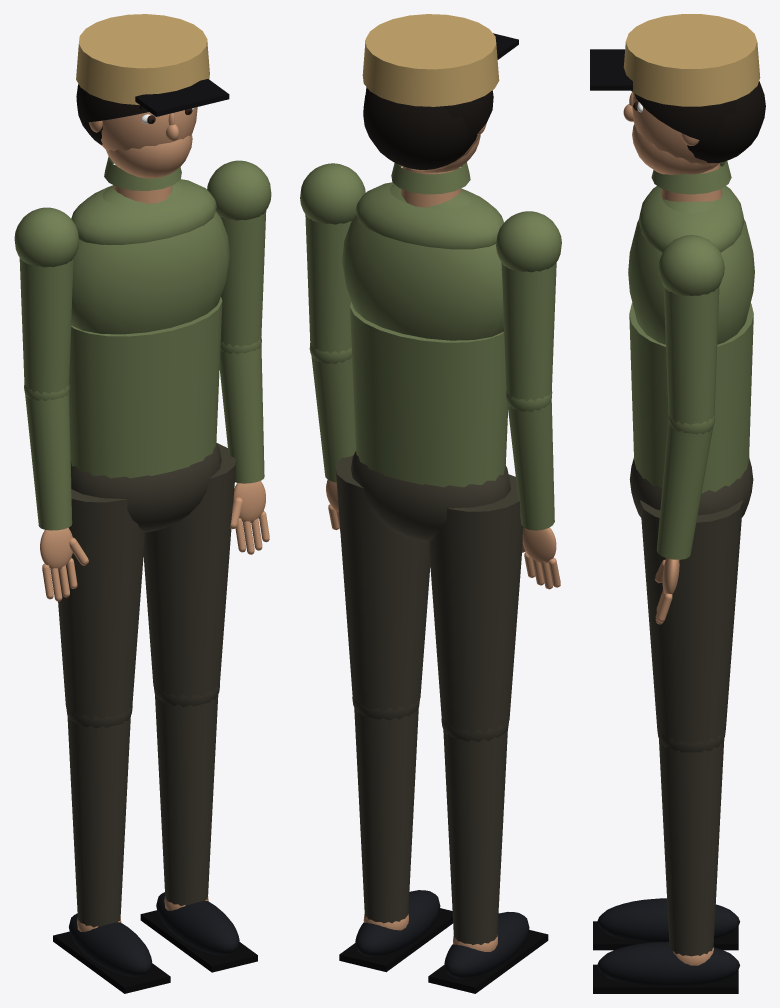
File: villager-farmer.glb
The picture shows the model from 3 angles, left to right: view 1: azimuth 30°, elevation 25°; view 2: azimuth 150°, elevation 25°; view 3: azimuth 270°, elevation 25°; orthographic projection. The views are drawn at different scales.
Parts seen in each view (by area): view 1: leg (×2), arm (×2), object 1, object 2, object 24, object 3, villager-farmer, object 7, object 8, object 25, object 22, object 6 (+1 smaller); view 2: leg (×2), arm (×2), object 1, object 2, object 24, object 3, villager-farmer, object 23, object 6, object 22, object 5; view 3: leg (×2), arm, object 1, object 24, object 2, object 3, object 23, villager-farmer, object 22, object 7, object 25, object 6 (+2 smaller).
Part boxes in pixels (<box>): leg (×2): <box>53,443,257,993</box>; arm (×2): <box>14,160,271,601</box>; object 1: <box>69,297,222,478</box>; object 2: <box>71,181,229,334</box>; object 24: <box>76,14,209,105</box>; object 3: <box>71,179,216,244</box>; villager-farmer: <box>70,442,221,532</box>; object 7: <box>101,107,197,151</box>; object 8: <box>106,133,192,178</box>; object 25: <box>135,79,229,116</box>; object 22: <box>78,86,148,122</box>; object 6: <box>104,156,181,190</box>; leg (×2): <box>335,455,548,993</box>; arm (×2): <box>300,163,561,589</box>; object 1: <box>350,302,507,487</box>; object 2: <box>342,184,503,340</box>; object 24: <box>362,14,499,106</box>; object 3: <box>355,182,503,249</box>; villager-farmer: <box>351,451,510,542</box>; object 23: <box>363,91,477,169</box>; object 6: <box>391,162,470,194</box>; object 22: <box>365,87,493,138</box>; object 5: <box>401,166,460,207</box>; leg (×2): <box>593,500,742,993</box>; arm: <box>655,235,724,624</box>; object 1: <box>629,303,753,493</box>; object 24: <box>623,14,760,106</box>; object 2: <box>628,199,754,344</box>; object 3: <box>638,186,744,252</box>; object 23: <box>687,81,765,163</box>; villager-farmer: <box>629,457,753,517</box>; object 22: <box>634,94,740,143</box>; object 7: <box>632,93,721,166</box>; object 25: <box>590,49,632,90</box>; object 6: <box>651,161,731,194</box>.
Size of the model in its own units: 0.5705 by 1.98 by 0.3426.
